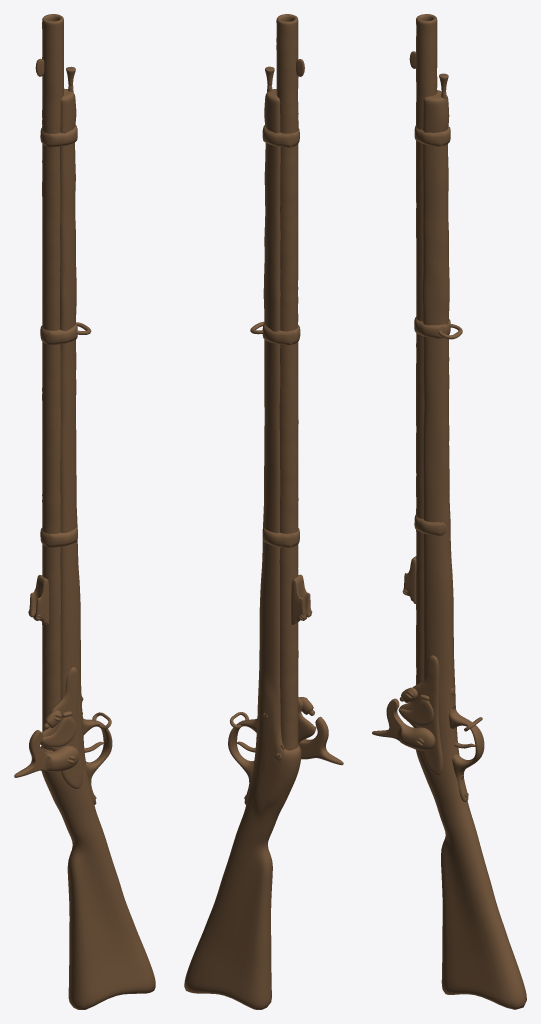
File: musket-normalized.fbx
The picture shows the model from 3 angles, left to right: view 1: azimuth 30°, elevation 25°; view 2: azimuth 150°, elevation 25°; view 3: azimuth 330°, elevation 25°; orthographic projection. The views are drawn at different scales.
Parts seen in each view (by area): view 1: Musket_10, Musket_07; view 2: Musket_10, Musket_07; view 3: Musket_10, Musket_07.
Boxes of the visible parts, <box> form: Musket_10: <box>40,88,155,1009</box>; Musket_07: <box>14,14,112,804</box>; Musket_10: <box>184,89,301,1009</box>; Musket_07: <box>228,14,343,804</box>; Musket_10: <box>415,90,526,1009</box>; Musket_07: <box>372,14,484,801</box>.
Size of the model in its own units: 0.2088 by 1.34 by 0.0535.
